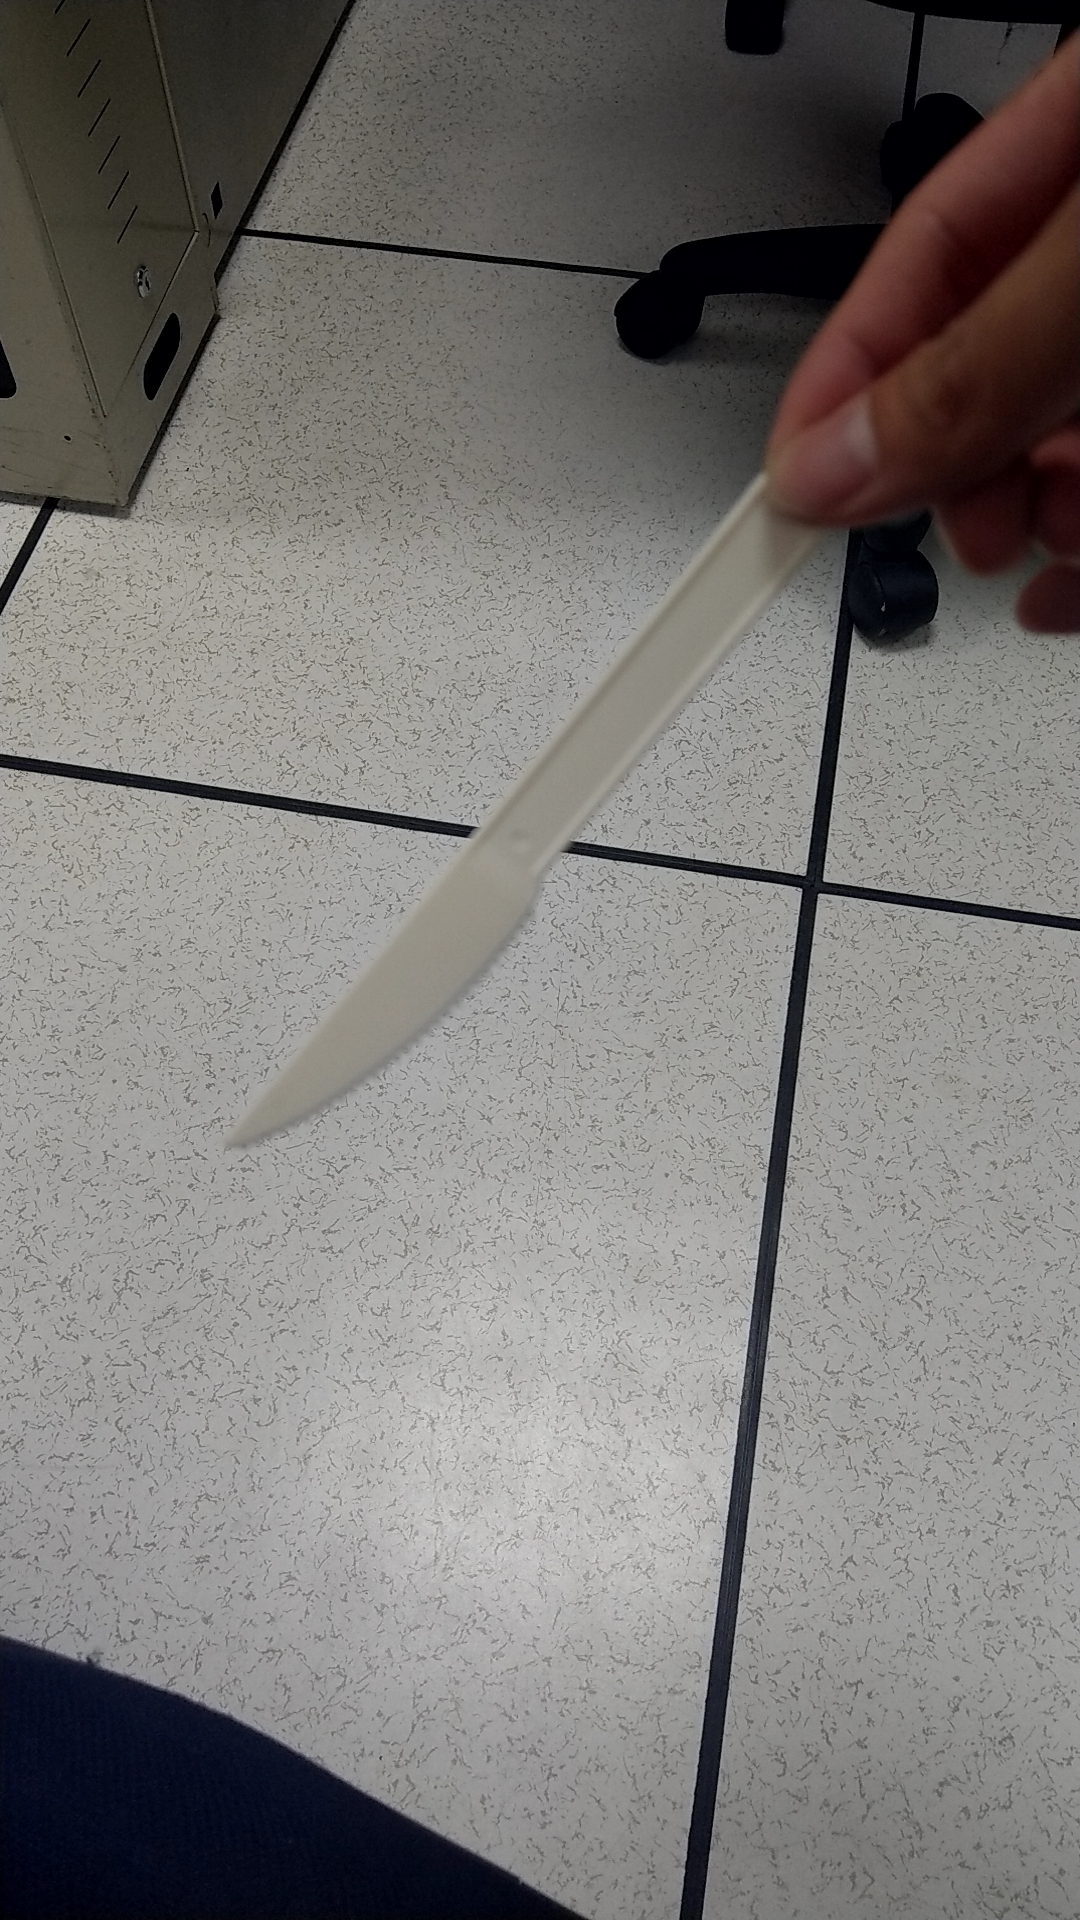knife: (225, 422, 815, 1185)
